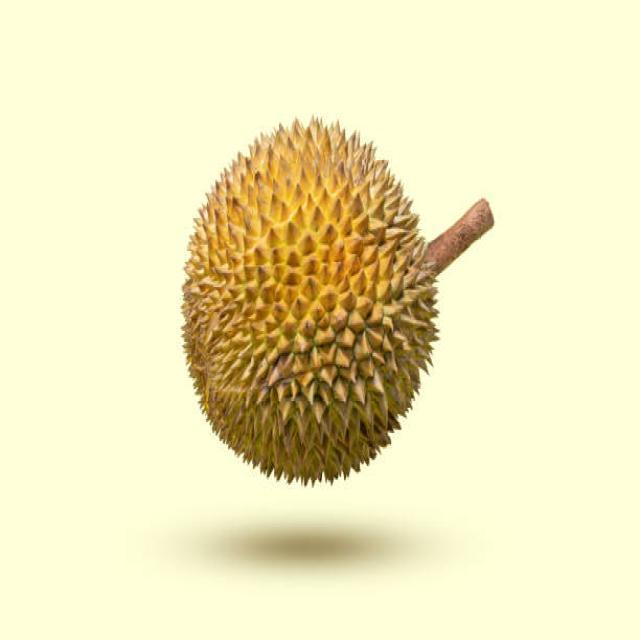mature: (182, 120, 438, 483)
